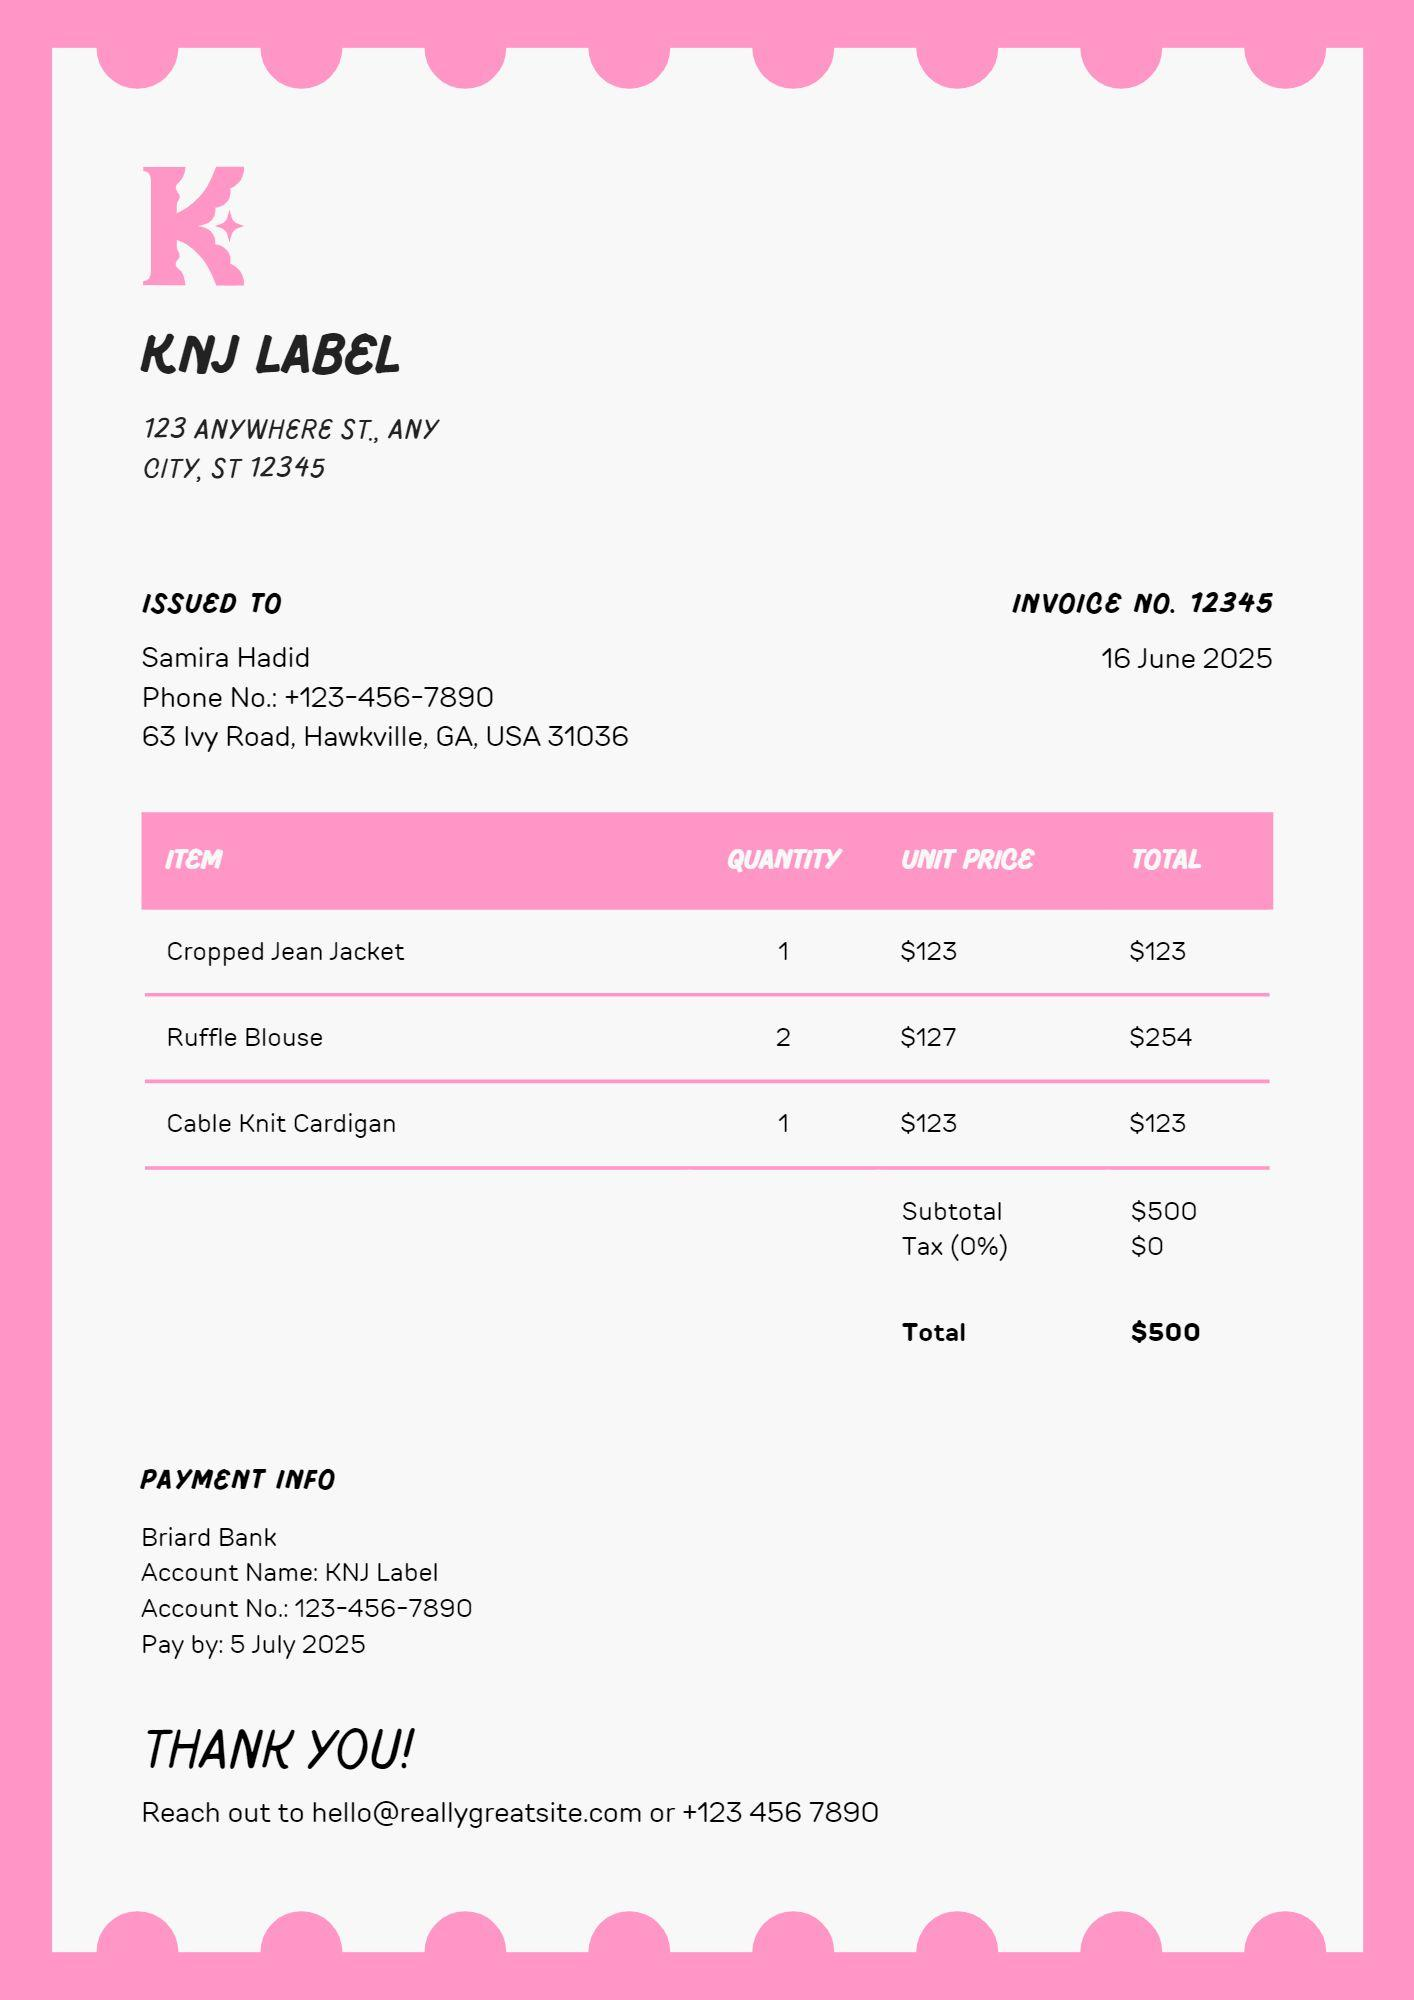ROI: (132, 802, 1282, 1180)
